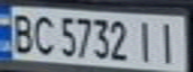2: (109, 16, 133, 63)
3: (90, 16, 112, 61)
5: (54, 12, 78, 57)
7: (72, 15, 93, 58)
B: (6, 10, 36, 55)
C: (30, 11, 57, 56)
I: (151, 18, 184, 65), (133, 17, 160, 64)
